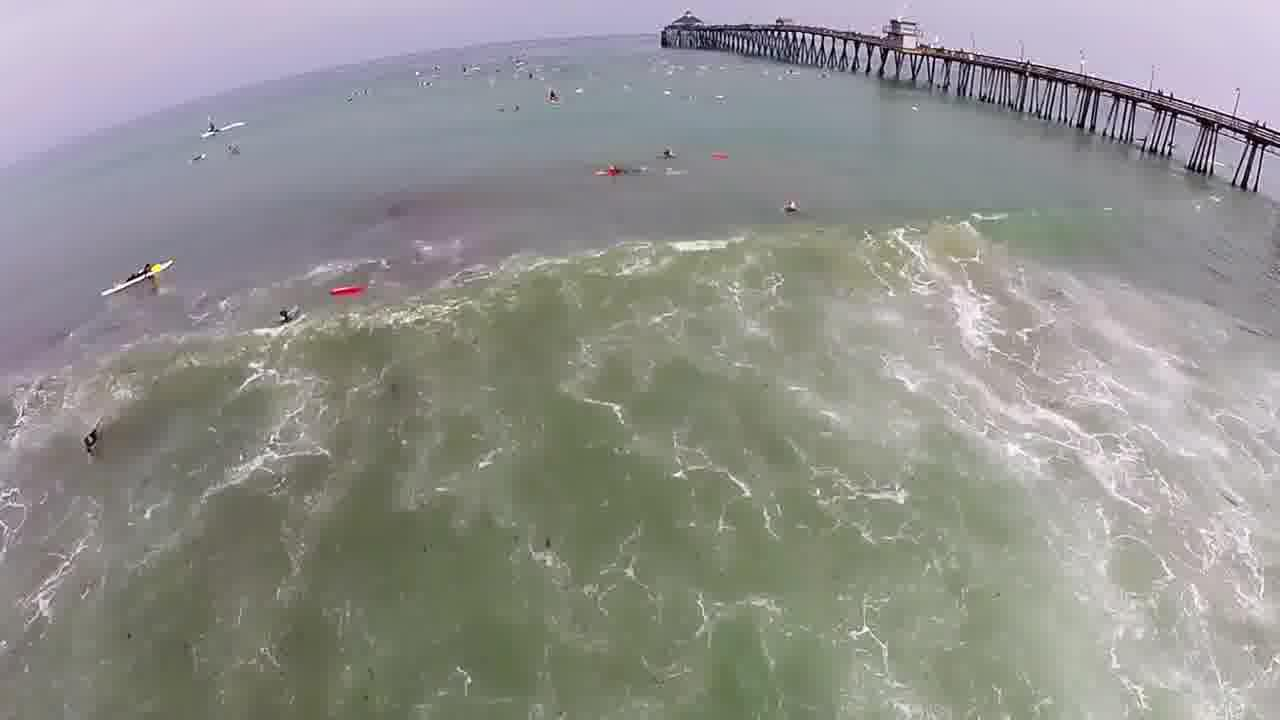human: (774, 183, 820, 222), (70, 421, 115, 458), (263, 298, 301, 333), (596, 151, 629, 188), (656, 146, 684, 169)
